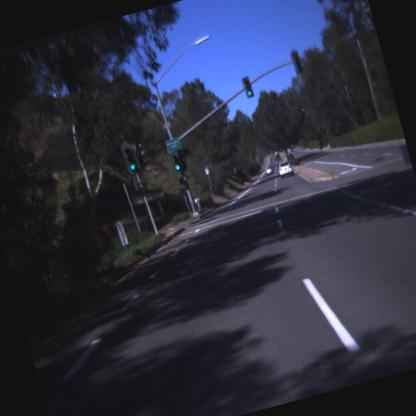trafficlight: (119, 139, 139, 173), (168, 147, 182, 174), (239, 74, 254, 98)
